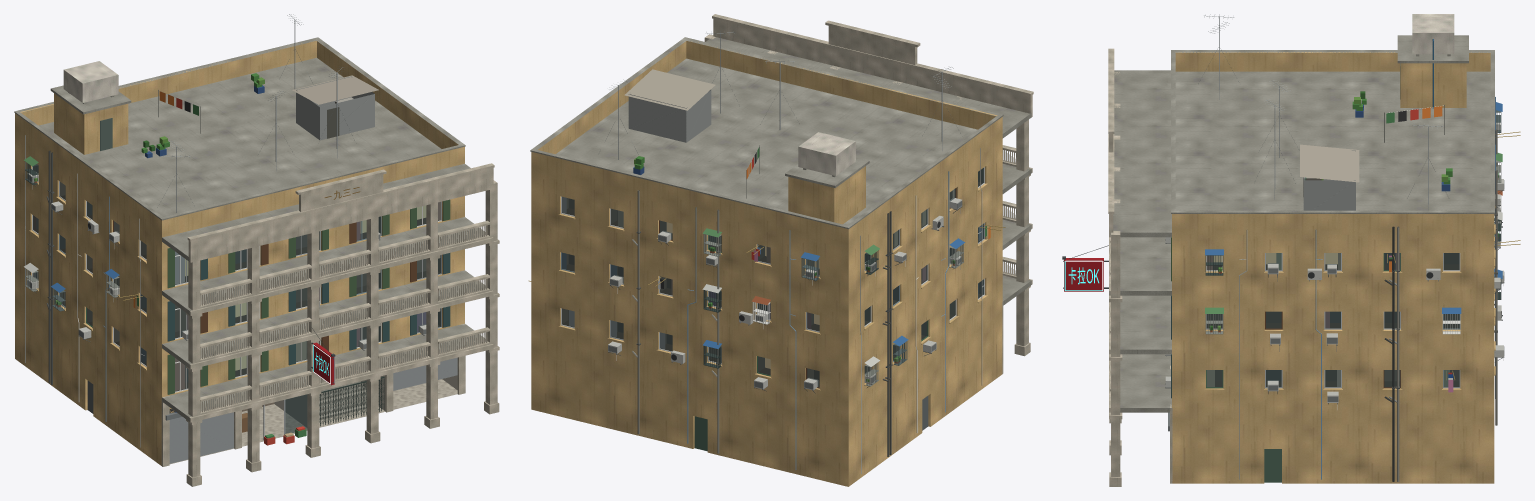
Rendered from hk-verandah-tonglau.glb.
3 renders of one model, left to right at view 1: azimuth 30°, elevation 25°; view 2: azimuth 150°, elevation 25°; view 3: azimuth 270°, elevation 25°, orthographic. The views are drawn at different scales.
Parts seen in each view (by area): view 1: Building_wall, Building_slab, Building_column, Building_vc, Building_glass, Building_metal, Building_room, Building_shutter, Building_floor_tile, Building_tin, Building_frame, Building_tank (+2 smaller); view 2: Building_wall, Building_slab, Building_column, Building_vc, Building_metal, Building_glass, Building_tin, Building_room, Building_tank, Building_ac, Building_frame; view 3: Building_wall, Building_slab, Building_vc, Building_column, Building_glass, Building_metal, Building_room, Building_tank, Building_tin, Building_ac, Building_board, Building_frame.
Boxes of the visible parts, x1=… form: Building_wall: x1=15, y1=41, x2=464, y2=465; Building_slab: x1=14, y1=37, x2=485, y2=421; Building_column: x1=161, y1=163, x2=499, y2=486; Building_vc: x1=24, y1=73, x2=450, y2=447; Building_glass: x1=33, y1=166, x2=441, y2=433; Building_metal: x1=25, y1=14, x2=426, y2=426; Building_room: x1=33, y1=97, x2=457, y2=446; Building_shutter: x1=169, y1=357, x2=457, y2=463; Building_floor_tile: x1=170, y1=379, x2=457, y2=464; Building_tin: x1=296, y1=76, x2=374, y2=140; Building_frame: x1=32, y1=166, x2=441, y2=439; Building_tank: x1=63, y1=61, x2=118, y2=102; Building_wall: x1=531, y1=41, x2=1002, y2=486; Building_slab: x1=530, y1=37, x2=1031, y2=305; Building_column: x1=704, y1=14, x2=1033, y2=373; Building_vc: x1=562, y1=69, x2=990, y2=473; Building_metal: x1=605, y1=31, x2=963, y2=451; Building_glass: x1=562, y1=168, x2=983, y2=387; Building_tin: x1=628, y1=89, x2=711, y2=142; Building_room: x1=562, y1=168, x2=983, y2=386; Building_tank: x1=798, y1=132, x2=855, y2=175; Building_ac: x1=608, y1=198, x2=962, y2=390; Building_frame: x1=561, y1=167, x2=984, y2=388; Building_wall: x1=1172, y1=52, x2=1495, y2=483; Building_slab: x1=1113, y1=35, x2=1494, y2=412; Building_vc: x1=1171, y1=39, x2=1503, y2=481; Building_column: x1=1108, y1=48, x2=1172, y2=486; Building_glass: x1=1206, y1=253, x2=1459, y2=387; Building_metal: x1=1062, y1=14, x2=1504, y2=482; Building_room: x1=1207, y1=177, x2=1459, y2=386; Building_tank: x1=1412, y1=14, x2=1454, y2=54; Building_tin: x1=1303, y1=150, x2=1355, y2=210; Building_ac: x1=1165, y1=122, x2=1503, y2=402; Building_board: x1=1064, y1=258, x2=1103, y2=291; Building_frame: x1=1206, y1=177, x2=1460, y2=388.
Size of the model in its own units: 25 by 21.23 by 26.28.
19 materials, 8 textured.
